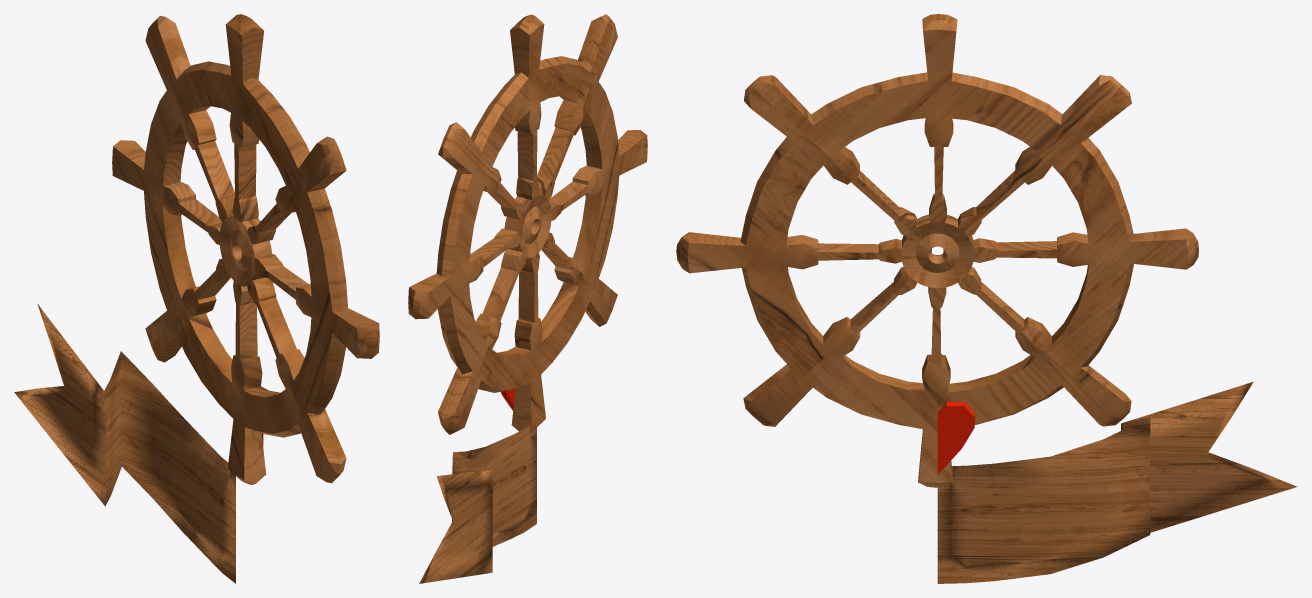
The model's file is чтото.glb.
The picture shows the model from 3 angles, left to right: view 1: azimuth 30°, elevation 25°; view 2: azimuth 150°, elevation 25°; view 3: azimuth 270°, elevation 25°; orthographic projection. The views are drawn at different scales.
Parts seen in each view (by area): view 1: Окружность, Плоскость; view 2: Окружность, Плоскость; view 3: Окружность, Плоскость, Плоскость.001.
Boxes of the visible parts, x1,y1,x2,y2 form: Окружность: (112, 14, 379, 484); Плоскость: (14, 304, 235, 583); Окружность: (408, 14, 647, 434); Плоскость: (419, 425, 536, 583); Окружность: (676, 14, 1198, 487); Плоскость: (937, 381, 1297, 583); Плоскость.001: (937, 402, 975, 474).
Bounding box in the file's own units: 0.7432 × 5.52 × 5.41.
3 materials, 2 textured.
